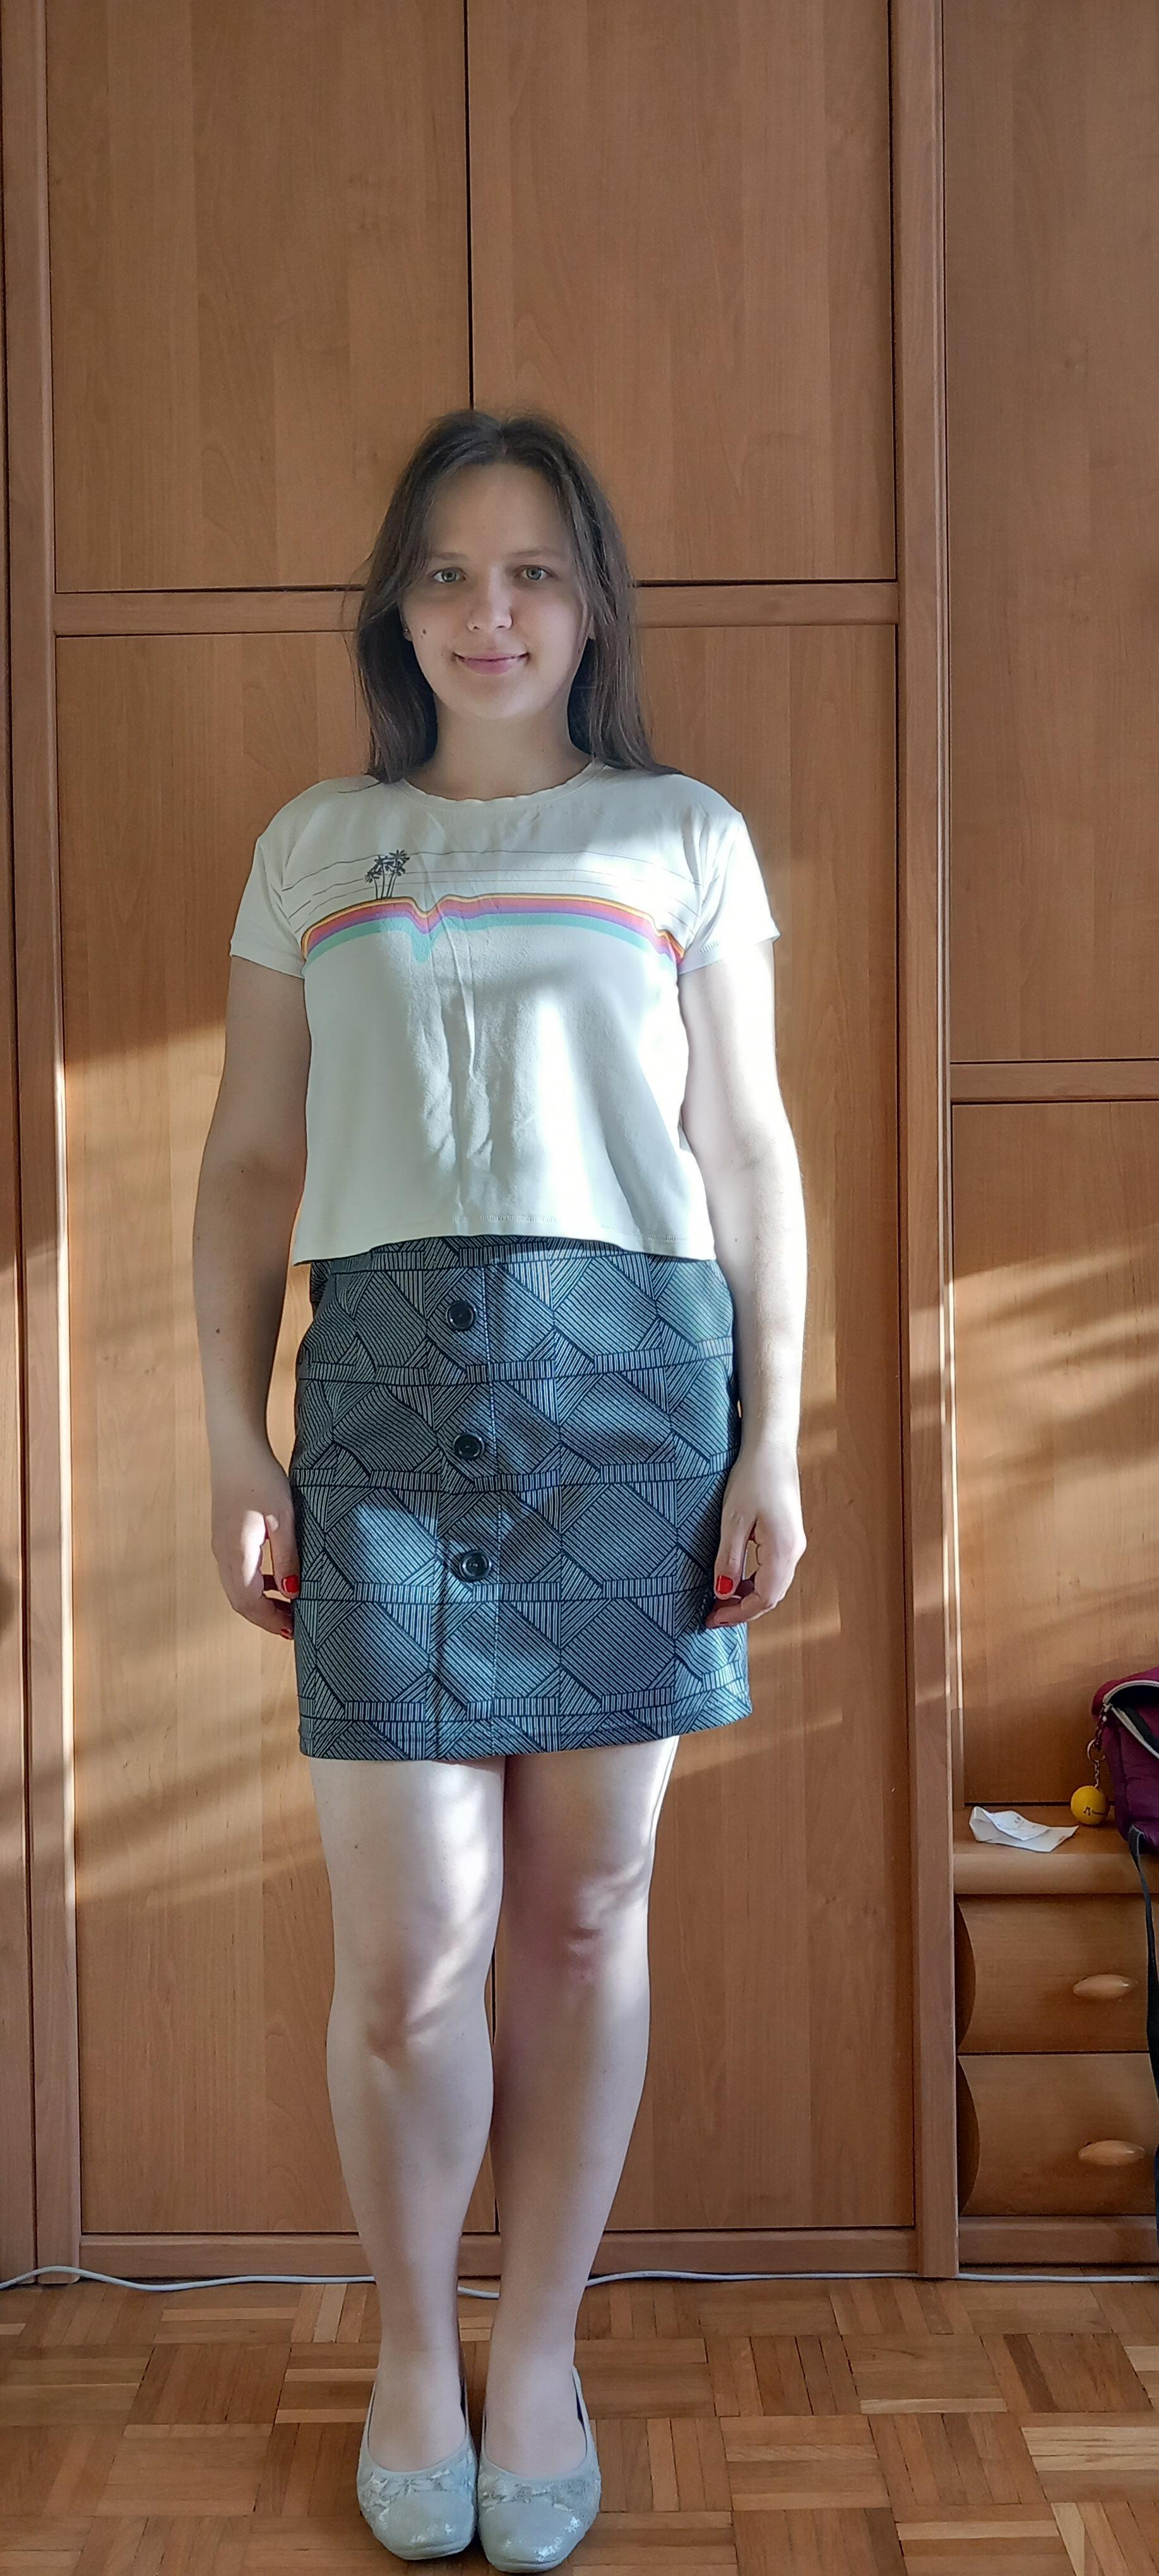Tshirt: (230, 759, 783, 1265)
skirt: (291, 1237, 754, 1761)
